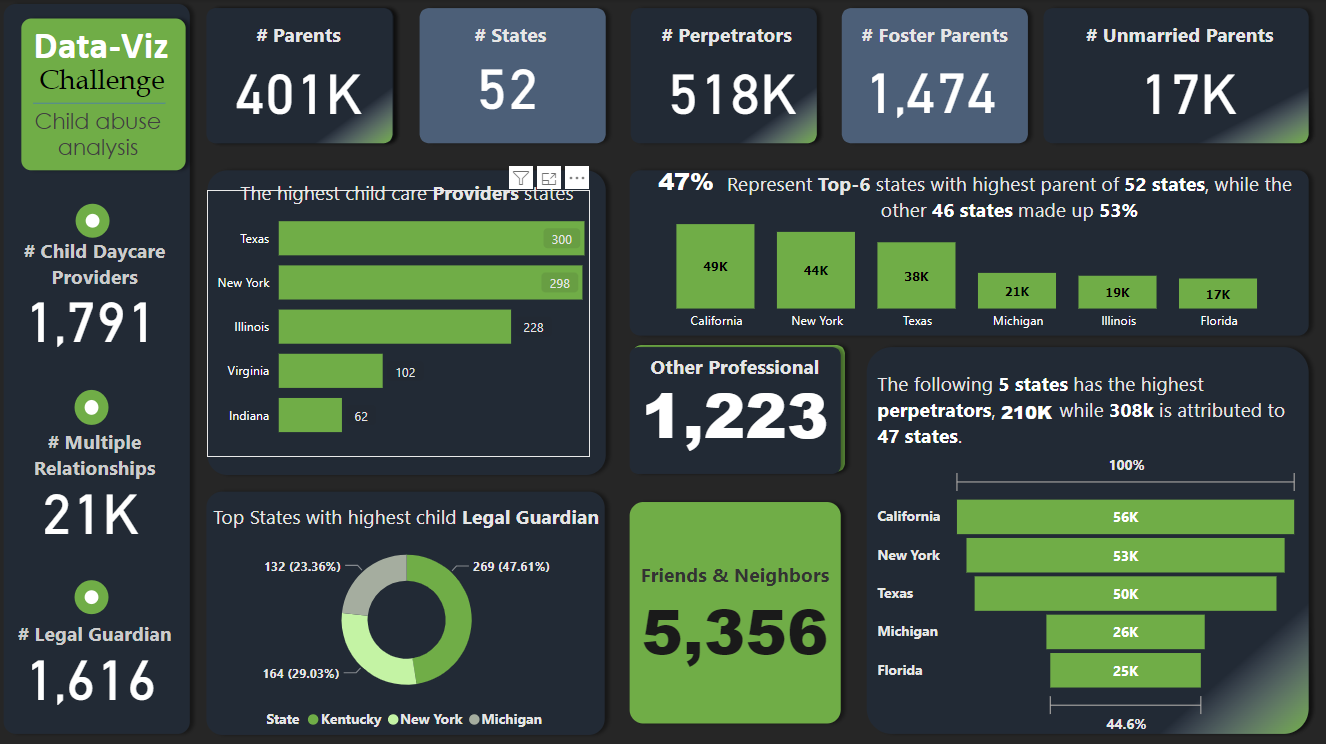

The page's visual inventory and layout, read from the dashboard file:
{"tool":"powerbi","page":{"name":"Overview","canvas":[1280,720],"ordinal":0},"visuals":[{"type":"textbox","box":[224,16,128,40],"z":0},{"type":"textbox","box":[408,16,168,40],"z":1000},{"type":"textbox","box":[608,16,184,40],"z":2000},{"type":"textbox","box":[808,16,184,40],"z":3000},{"type":"textbox","box":[1016,16,240,40],"z":4000},{"type":"card","fields":{"Values":["All Measure.# parents"]},"box":[200,40,176,88],"z":5000},{"type":"card","fields":{"Values":["All Measure.Total states"]},"box":[400,32,176,96],"z":6000},{"type":"card","fields":{"Values":["All Measure.# Perpetrators"]},"box":[616,40,176,88],"z":7000},{"type":"card","fields":{"Values":["All Measure.# Foster Parents"]},"box":[808,48,176,72],"z":8000},{"type":"card","fields":{"Values":["All Measure.# Unmarried Parents"]},"box":[1032,40,224,88],"z":9000},{"type":"textbox","box":[0,224,184,64],"z":10000},{"type":"textbox","box":[0,408,184,64],"z":11000},{"type":"textbox","box":[0,592,184,56],"z":12000},{"type":"card","fields":{"Values":["All Measure.# Child Daycare Providers"]},"box":[0,256,176,96],"z":13000},{"type":"card","fields":{"Values":["All Measure.# Multiple Relationships"]},"box":[0,440,176,96],"z":14000},{"type":"card","fields":{"Values":["All Measure.# Legal Guidances"]},"box":[0,600,176,96],"z":15000},{"type":"textbox","box":[216,168,352,40],"z":16000},{"type":"barChart","fields":{"Category":["Data.State"],"Y":["All Measure.Top 5 State with child Daycare"]},"box":[200,184,368,256],"z":17000},{"type":"donutChart","fields":{"Y":["All Measure.Top-3 State With Legal Guardian"],"Category":["Data.State"]},"box":[200,512,384,200],"z":18000},{"type":"textbox","box":[840,352,424,88],"z":19000},{"type":"textbox","box":[160,480,464,40],"z":20000},{"type":"textbox","box":[608,336,200,40],"z":21000},{"type":"card","fields":{"Values":["All Measure.# Other Professional"]},"box":[608,352,200,88],"z":22000},{"type":"textbox","box":[608,536,200,40],"z":23000},{"type":"card","fields":{"Values":["All Measure.# Friends and Neighbors"]},"box":[608,560,200,88],"z":24000},{"type":"columnChart","fields":{"Category":["Data.State"],"Y":["All Measure.Top-6 State with Highest Parent"]},"box":[608,184,648,144],"z":25000},{"type":"card","fields":{"Values":["All Measure.% Top-6 state with highest parents"]},"box":[616,151.7,88,48],"z":26000},{"type":"textbox","box":[680,160,584,64],"z":27000},{"type":"funnel","fields":{"Category":["Data.State"],"Y":["All Measure.Top-5 Perpetrators state"]},"box":[840,432,416,280],"z":28000},{"type":"card","fields":{"Values":["All Measure.Top-5 Perpetrators state"]},"box":[952,384,72,32],"z":29000}]}

Visuals, with their boxes in screenshot pixels (x1, y1, x2, y2), scaled from the page's 1280x720 canvas onto the 1326x744 screenshot:
textbox: (x1=232, y1=17, x2=365, y2=58)
textbox: (x1=423, y1=17, x2=597, y2=58)
textbox: (x1=630, y1=17, x2=820, y2=58)
textbox: (x1=837, y1=17, x2=1028, y2=58)
textbox: (x1=1053, y1=17, x2=1301, y2=58)
card - All Measure.# parents: (x1=207, y1=41, x2=390, y2=132)
card - All Measure.Total states: (x1=414, y1=33, x2=597, y2=132)
card - All Measure.# Perpetrators: (x1=638, y1=41, x2=820, y2=132)
card - All Measure.# Foster Parents: (x1=837, y1=50, x2=1019, y2=124)
card - All Measure.# Unmarried Parents: (x1=1069, y1=41, x2=1301, y2=132)
textbox: (x1=0, y1=231, x2=191, y2=298)
textbox: (x1=0, y1=422, x2=191, y2=488)
textbox: (x1=0, y1=612, x2=191, y2=670)
card - All Measure.# Child Daycare Providers: (x1=0, y1=265, x2=182, y2=364)
card - All Measure.# Multiple Relationships: (x1=0, y1=455, x2=182, y2=554)
card - All Measure.# Legal Guidances: (x1=0, y1=620, x2=182, y2=719)
textbox: (x1=224, y1=174, x2=588, y2=215)
barChart - Data.State x All Measure.Top 5 State with child Daycare: (x1=207, y1=190, x2=588, y2=455)
donutChart - All Measure.Top-3 State With Legal Guardian x Data.State: (x1=207, y1=529, x2=605, y2=736)
textbox: (x1=870, y1=364, x2=1309, y2=455)
textbox: (x1=166, y1=496, x2=646, y2=537)
textbox: (x1=630, y1=347, x2=837, y2=389)
card - All Measure.# Other Professional: (x1=630, y1=364, x2=837, y2=455)
textbox: (x1=630, y1=554, x2=837, y2=595)
card - All Measure.# Friends and Neighbors: (x1=630, y1=579, x2=837, y2=670)
columnChart - Data.State x All Measure.Top-6 State with Highest Parent: (x1=630, y1=190, x2=1301, y2=339)
card - All Measure.% Top-6 state with highest parents: (x1=638, y1=157, x2=729, y2=206)
textbox: (x1=704, y1=165, x2=1309, y2=231)
funnel - Data.State x All Measure.Top-5 Perpetrators state: (x1=870, y1=446, x2=1301, y2=736)
card - All Measure.Top-5 Perpetrators state: (x1=986, y1=397, x2=1061, y2=430)
